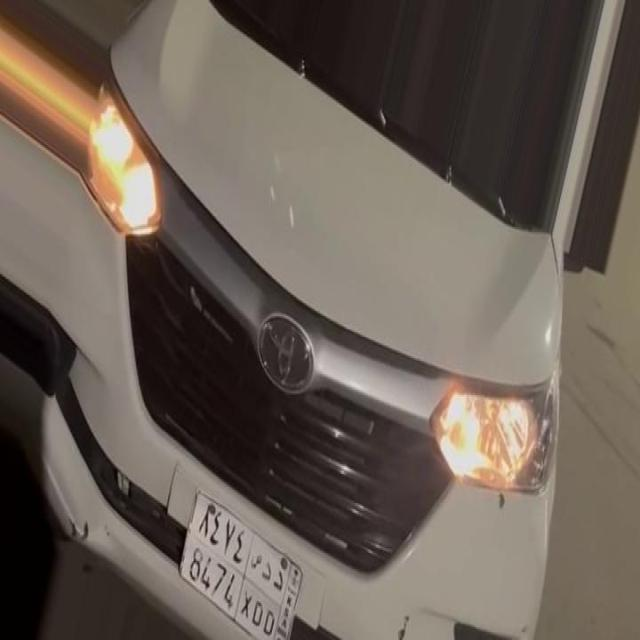Car-plate: (172, 466, 310, 640)
